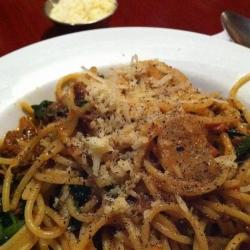carbonara: (12, 75, 244, 241)
